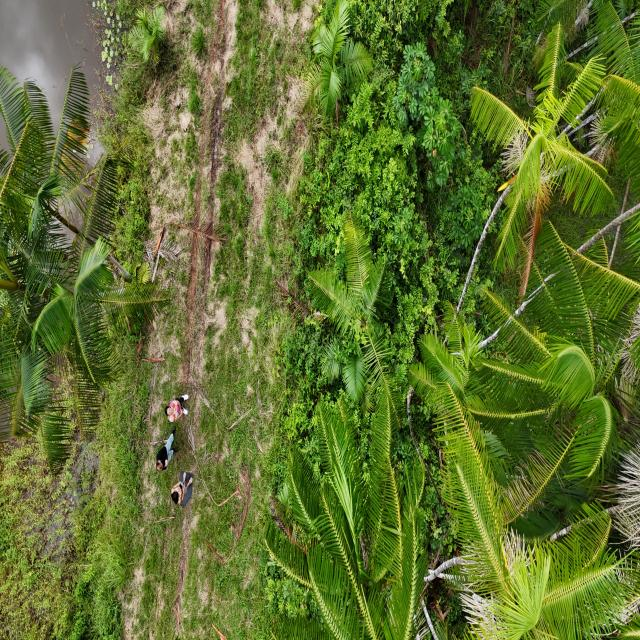vegetation: (0, 58, 173, 477)
